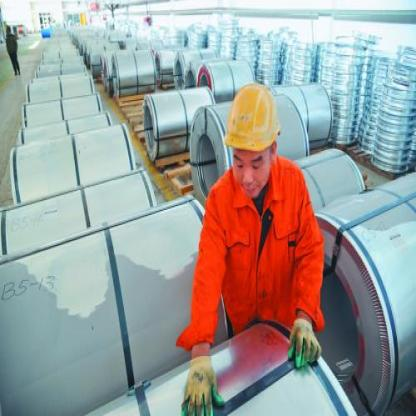helmet: (220, 74, 284, 197)
